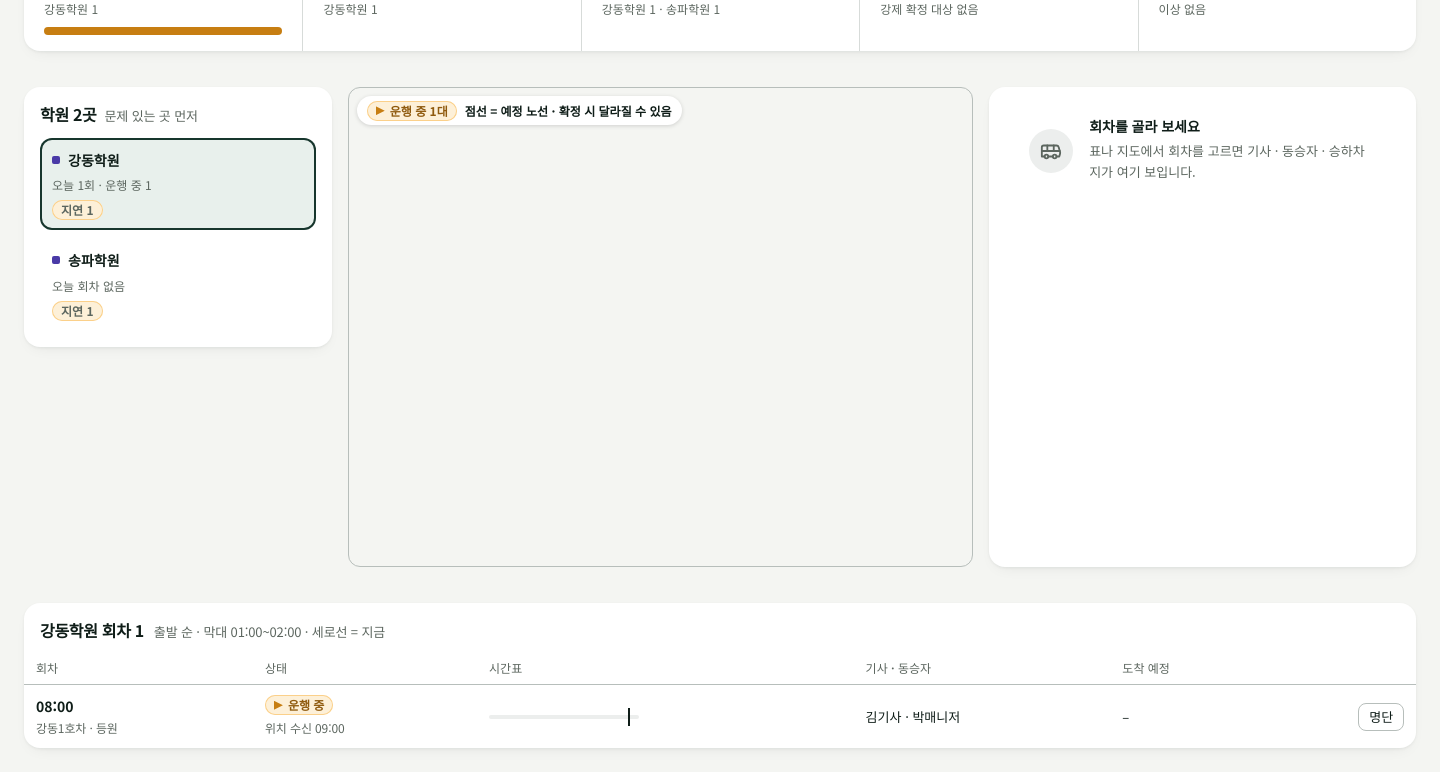
Test: MonitoringPage — 버스를 고른 채 학원을 바꾸면 선택과 노선을 푼다 › 근사 경로 안내가 떠 있어도 학원을 바꾸면 사라진다
(page scrolled)
Click the button "08:00 강동1호차 · 등원" at (77, 717), box [36, 696, 118, 737]
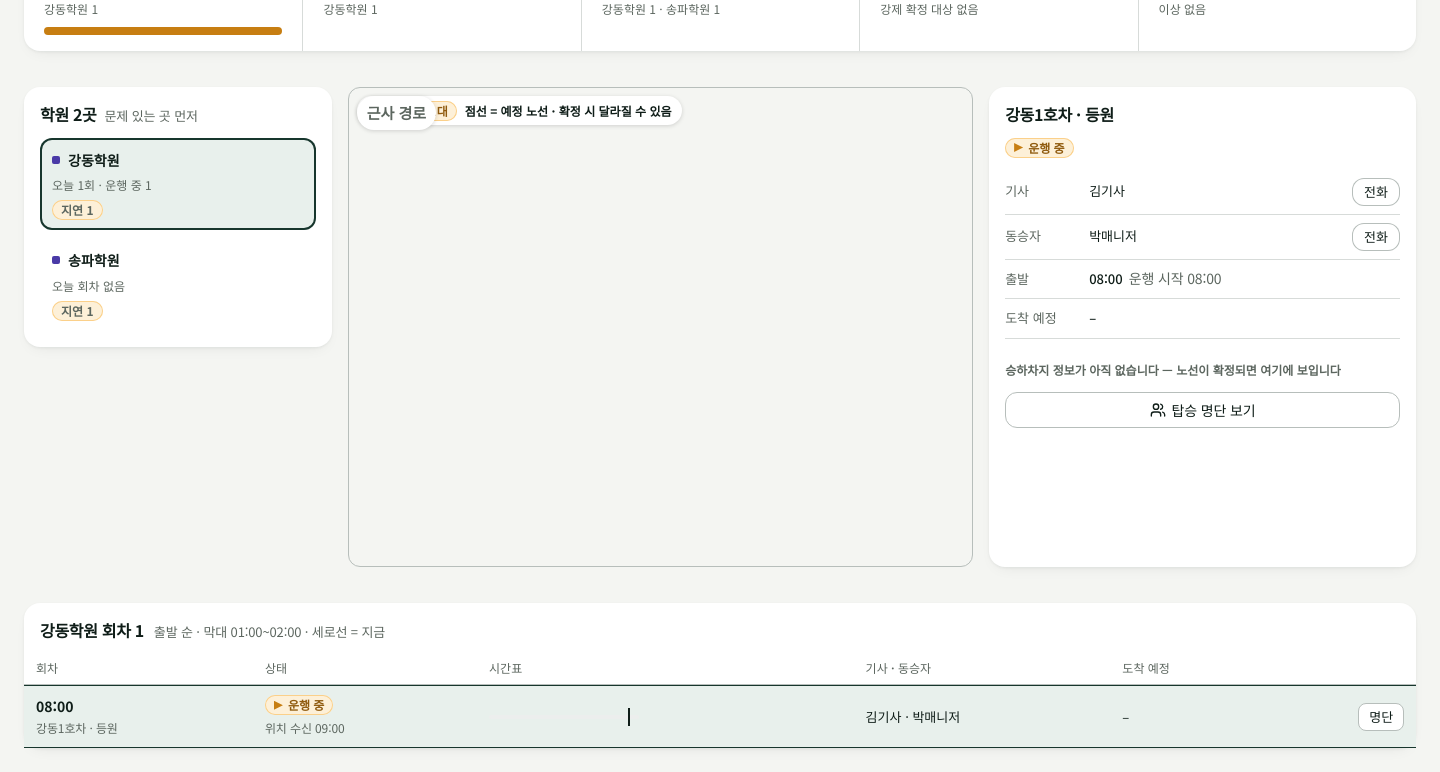
Expected: the text "근사 경로" is shown, [357, 96, 436, 130]
Click the button "송파학원 오늘 회차 없음 지연 1" at (94, 260), box [40, 238, 316, 330]
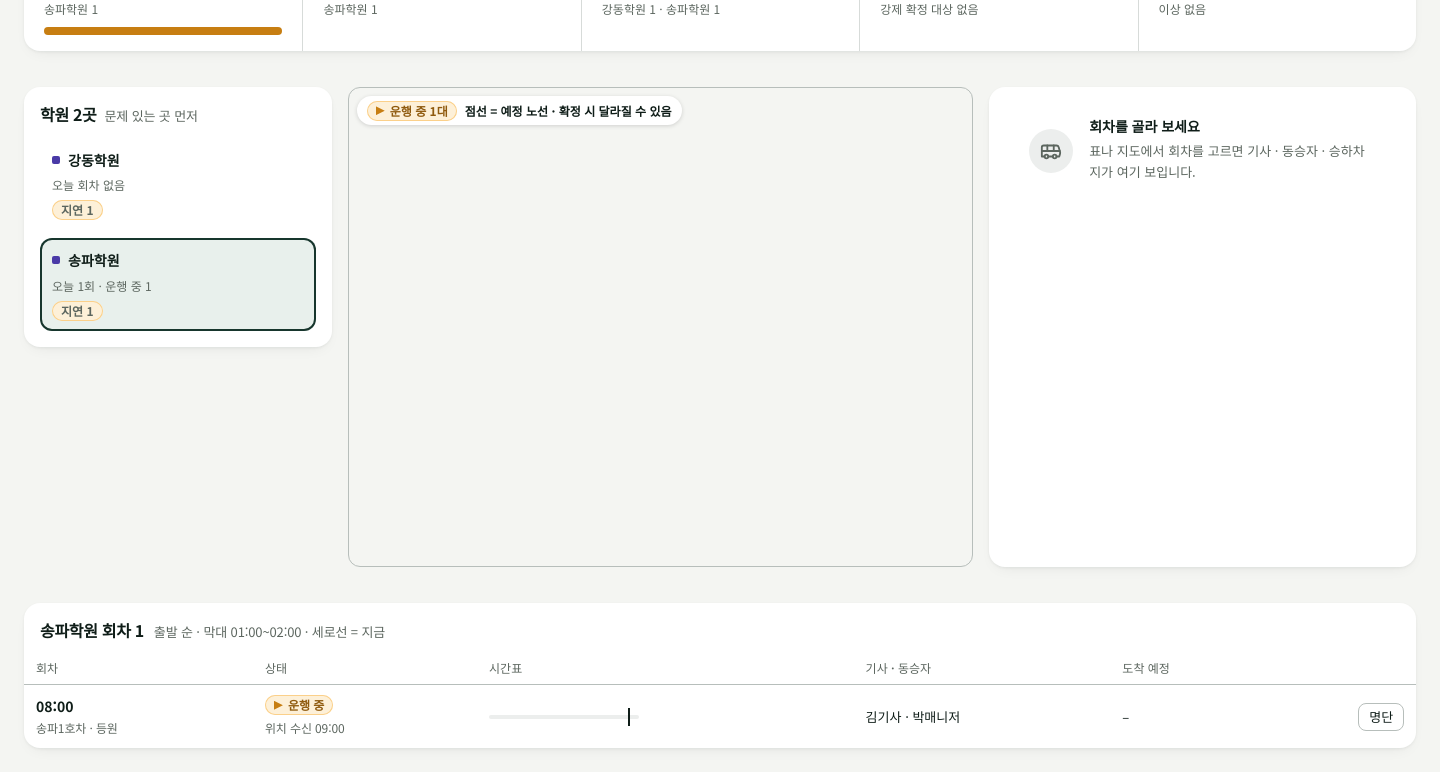
Expected: the button "08:00 송파1호차 · 등원" is shown, [36, 696, 118, 737]
Expected: the text "근사 경로" is gone
